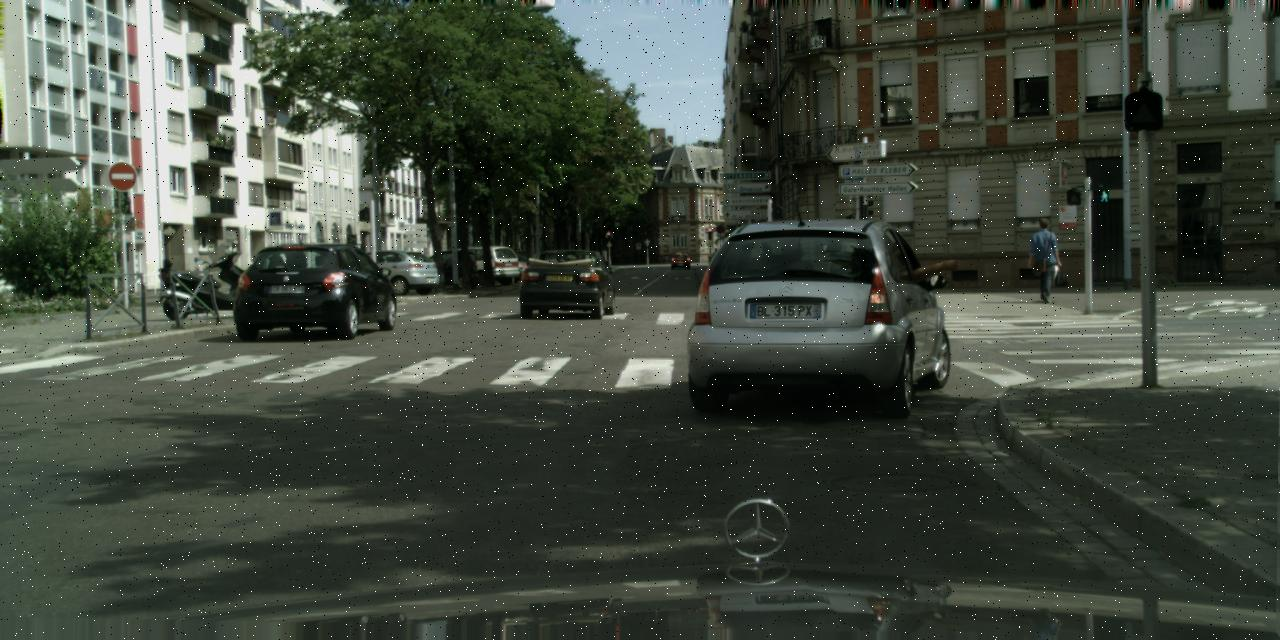ped: (1028, 218, 1063, 302)
